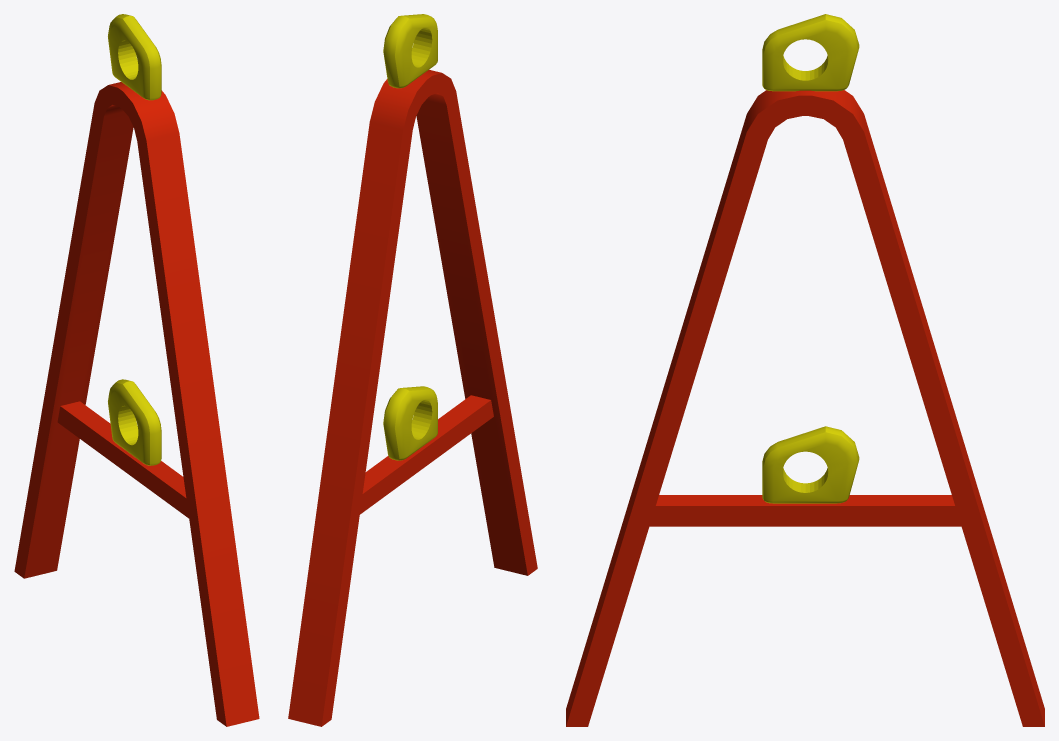
Rendered from pipe-barricade.fbx.
3 views of the same model, side by side, from view 1: azimuth 30°, elevation 25°; view 2: azimuth 150°, elevation 25°; view 3: azimuth 270°, elevation 25° (orthographic). The views are drawn at different scales.
Visible parts, largest first — view 1: pipe-barricade; view 2: pipe-barricade; view 3: pipe-barricade.
Boxes of the visible parts, bbox=[...] form: pipe-barricade: bbox=[14, 14, 259, 726]; pipe-barricade: bbox=[288, 14, 537, 726]; pipe-barricade: bbox=[566, 14, 1044, 726].
Bounding box in the file's own units: 3.75 × 67.84 × 41.93.
